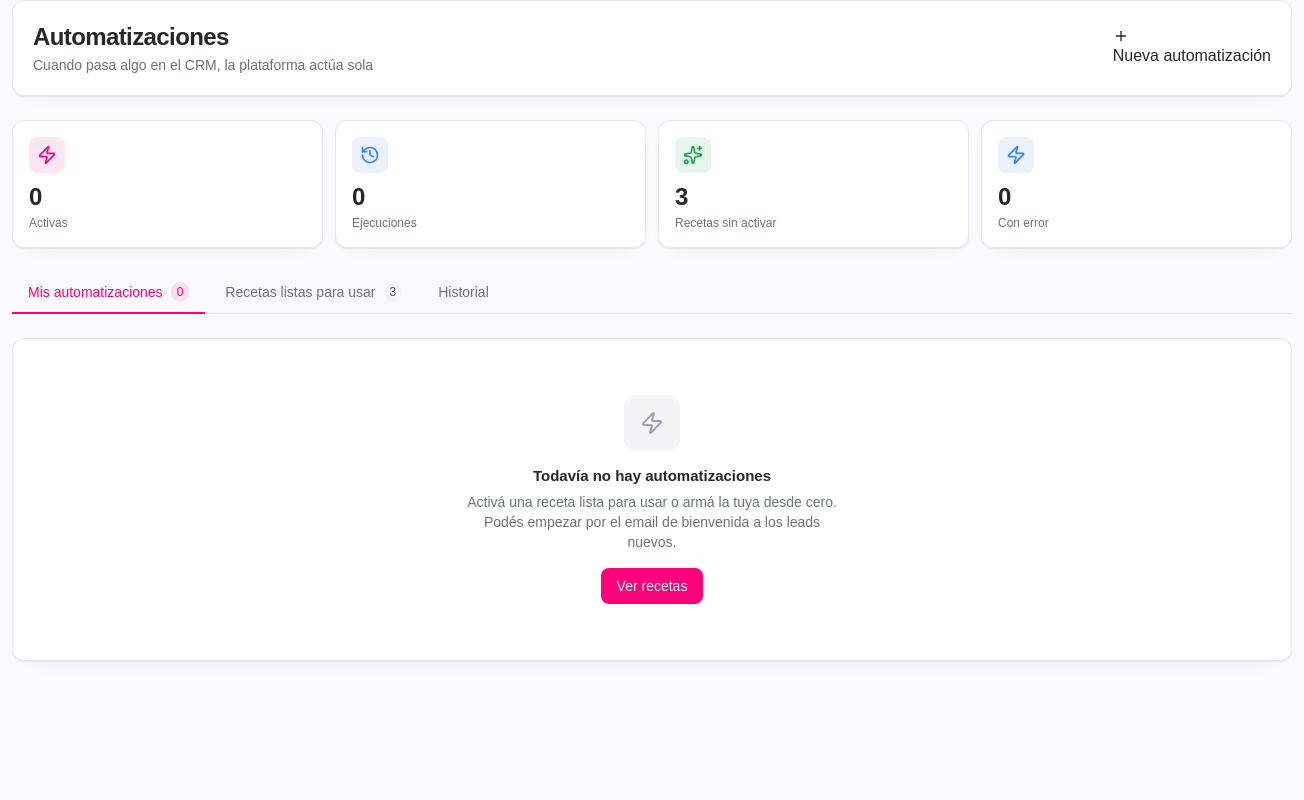
it: Galería de recetas › sin resultados ofrece salir del filtro en vez de dejar la pantalla vacía
Click the tab "Recetas listas para usar 3".
click(314, 293)  # box [209,272,418,314]
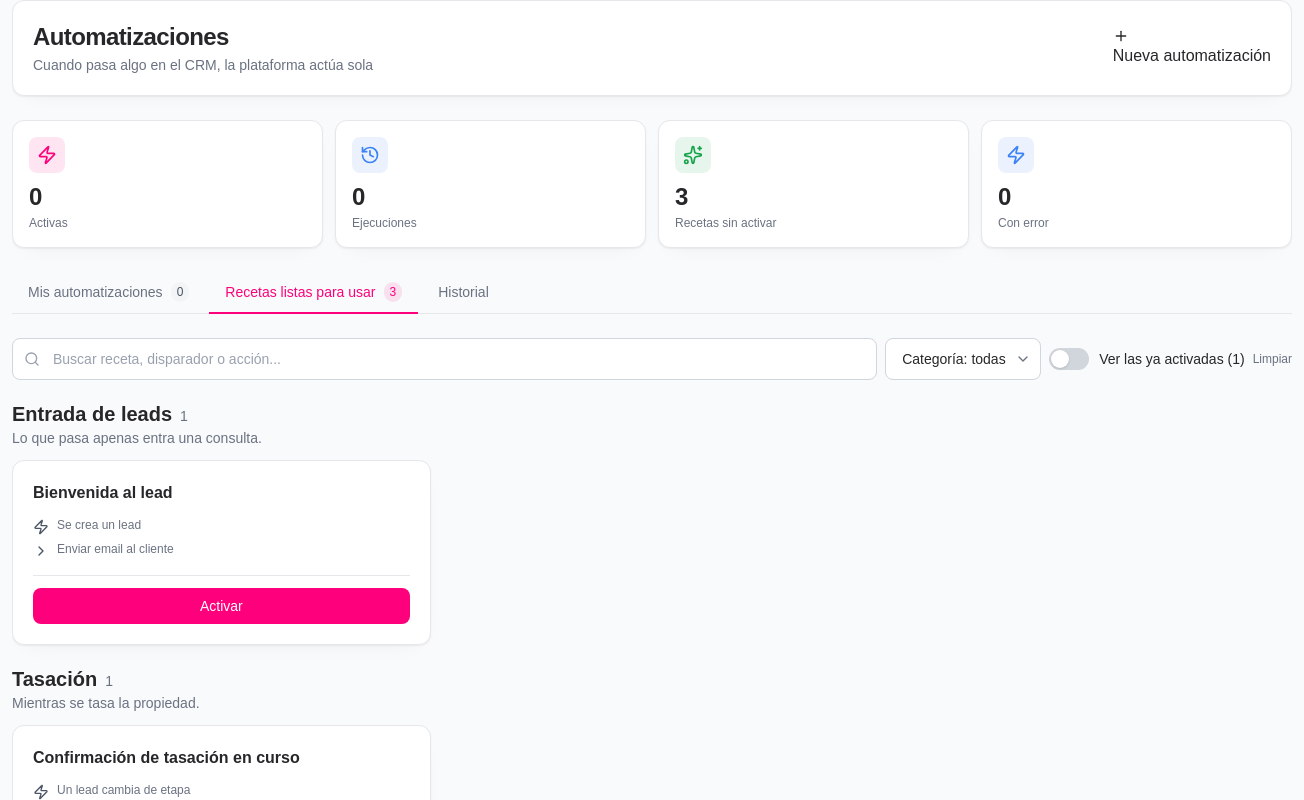
Type "zzz" into the field with placeholder "Buscar receta, disparador o acción...".
click(445, 359); type("zzz")  # box [12,338,877,380]
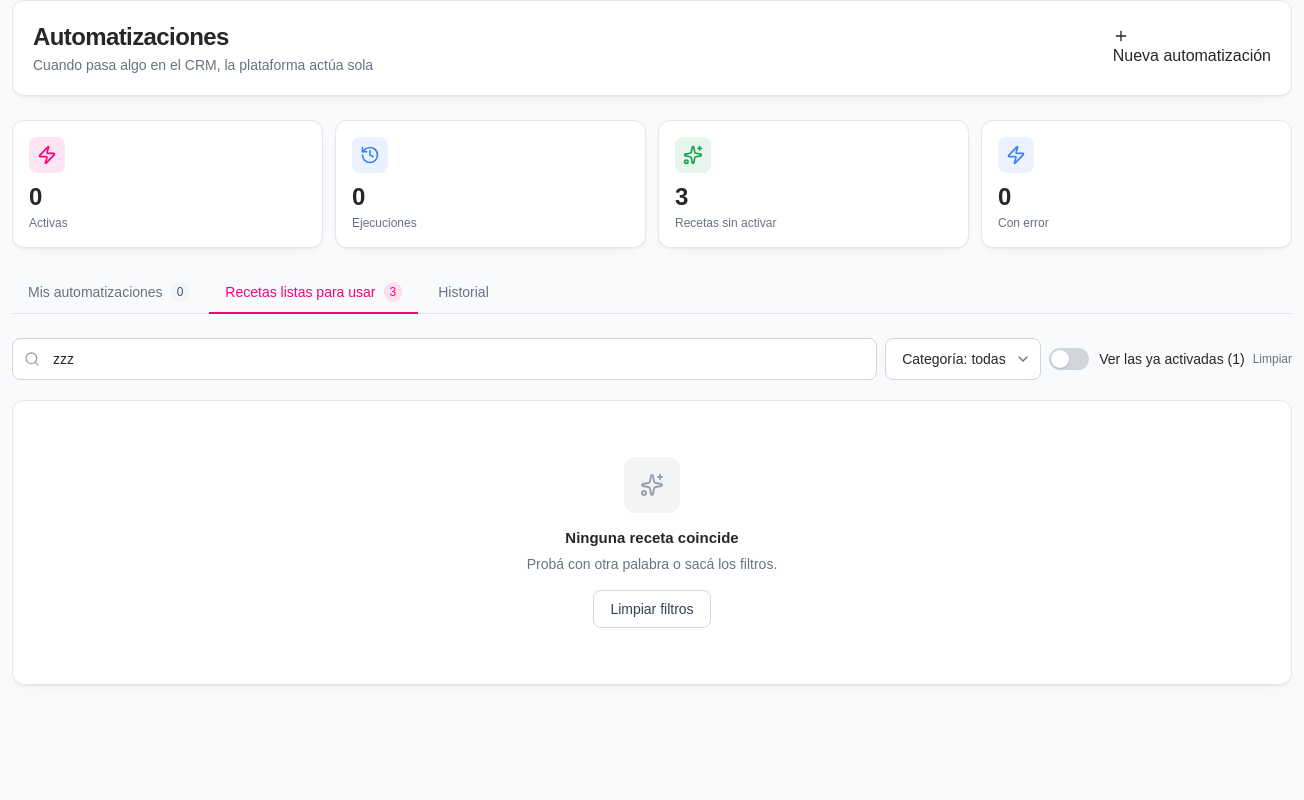
Now the heading "Ninguna receta coincide" is shown, box [565,529,739,546]
Click the button "Limpiar filtros".
click(652, 608)  # box [593,590,711,628]
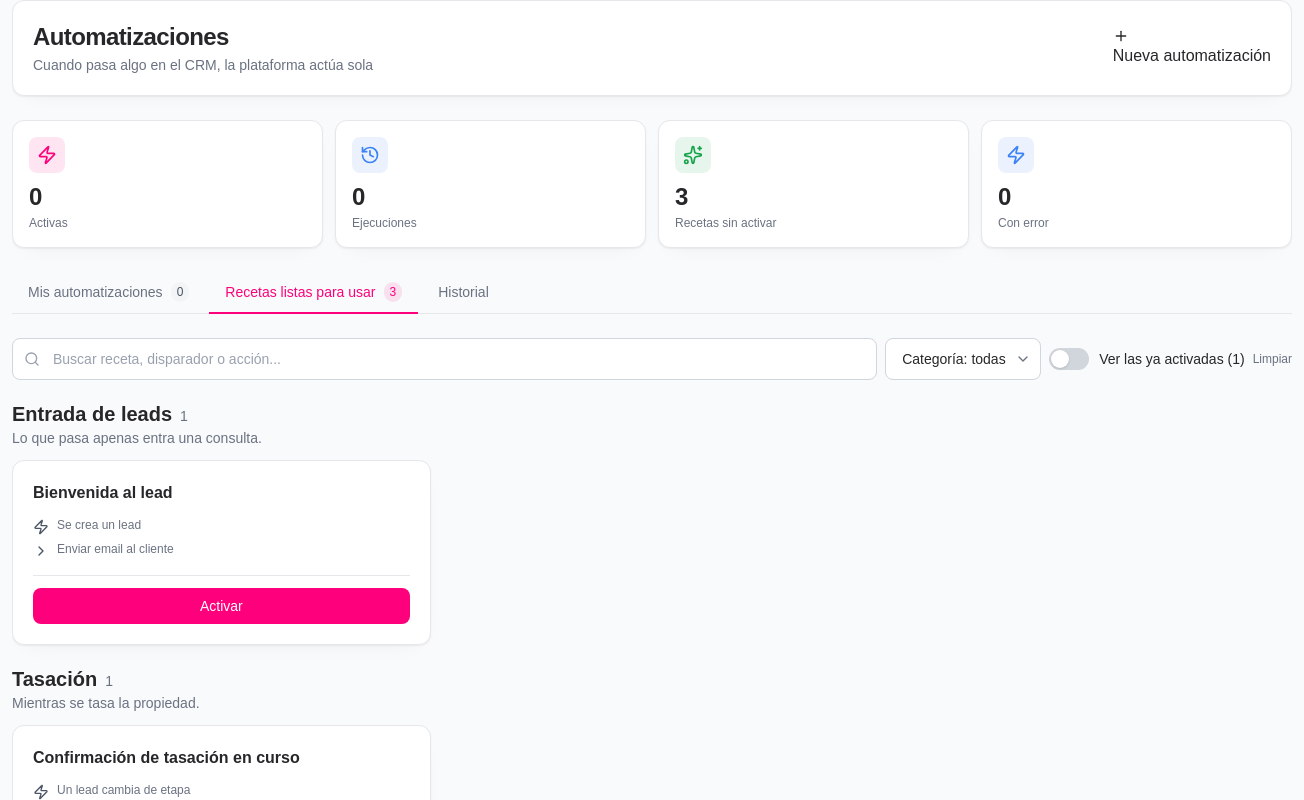
Now the heading "Bienvenida al lead" is shown, box [33,481,173,505]
